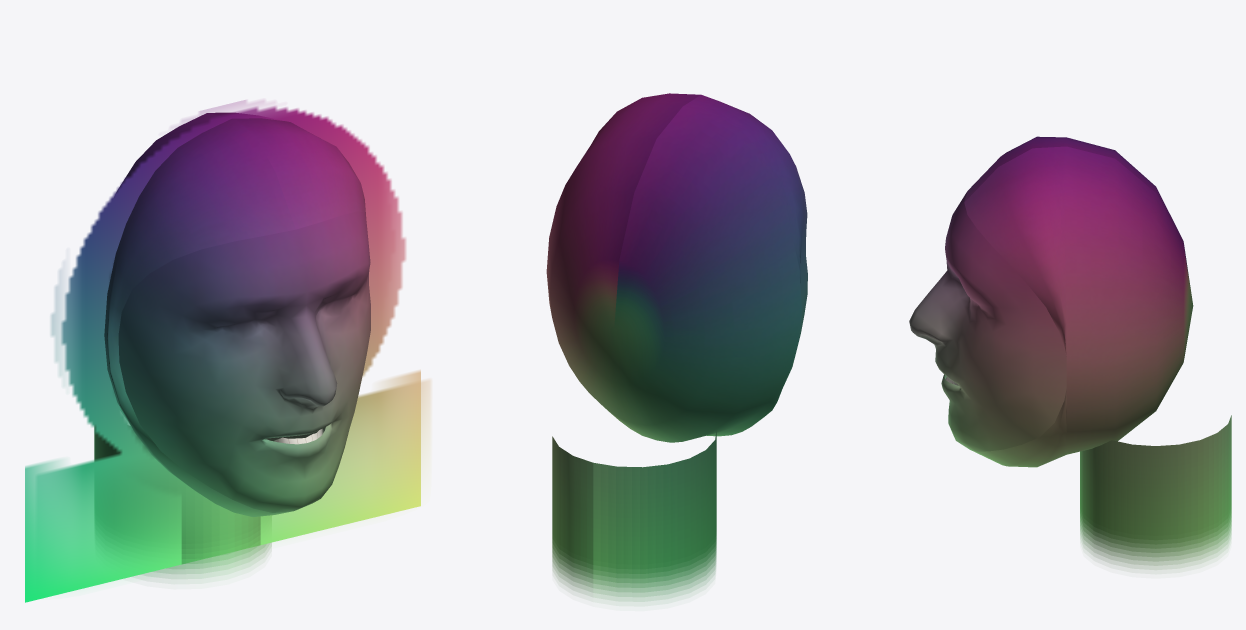
File: synthetic-head.glb
The picture shows the model from 3 angles, left to right: view 1: azimuth 30°, elevation 25°; view 2: azimuth 150°, elevation 25°; view 3: azimuth 270°, elevation 25°; orthographic projection. The views are drawn at different scales.
Parts seen in each view (by area): view 1: Face, HairCard, Skull, Body, Neck; view 2: Skull, Neck, Face; view 3: Skull, Face, Neck.
Part boxes in pixels (x1,y1,x2,y2): Face: [118, 211, 370, 512]; HairCard: [36, 106, 430, 579]; Skull: [104, 112, 366, 516]; Body: [25, 100, 420, 602]; Neck: [94, 425, 271, 579]; Skull: [546, 93, 803, 442]; Neck: [552, 429, 716, 601]; Face: [784, 168, 807, 384]; Skull: [964, 136, 1193, 467]; Face: [909, 192, 1066, 451]; Neck: [1080, 415, 1231, 570].
Size of the model in its own units: 0.2603 by 0.2999 by 0.1963.
9 materials, 8 textured.
